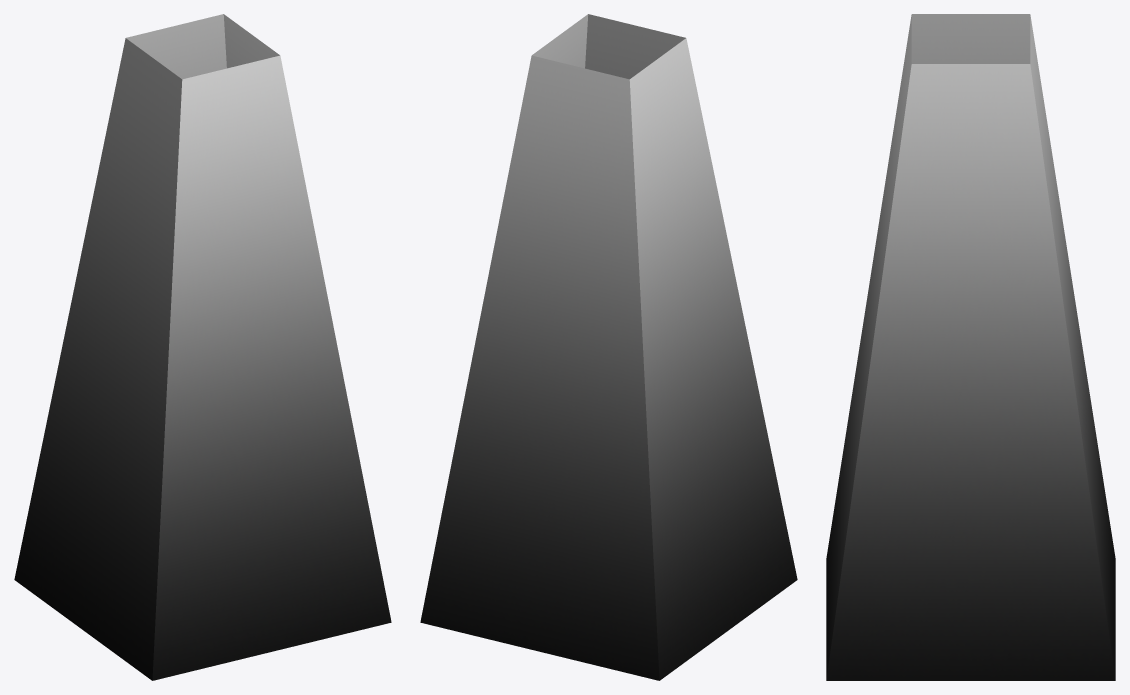
Rendered from gradient_ray.FBX.
The picture shows the model from 3 angles, left to right: view 1: azimuth 30°, elevation 25°; view 2: azimuth 150°, elevation 25°; view 3: azimuth 270°, elevation 25°; orthographic projection. The views are drawn at different scales.
Visible parts, largest first — view 1: gradient_ray; view 2: gradient_ray; view 3: gradient_ray.
Part boxes in pixels (left/top/right/bottom): gradient_ray: left=14, top=14, right=391, bottom=680; gradient_ray: left=420, top=14, right=797, bottom=680; gradient_ray: left=826, top=14, right=1115, bottom=680.
Size of the model in its own units: 30.25 by 67.02 by 30.25.
